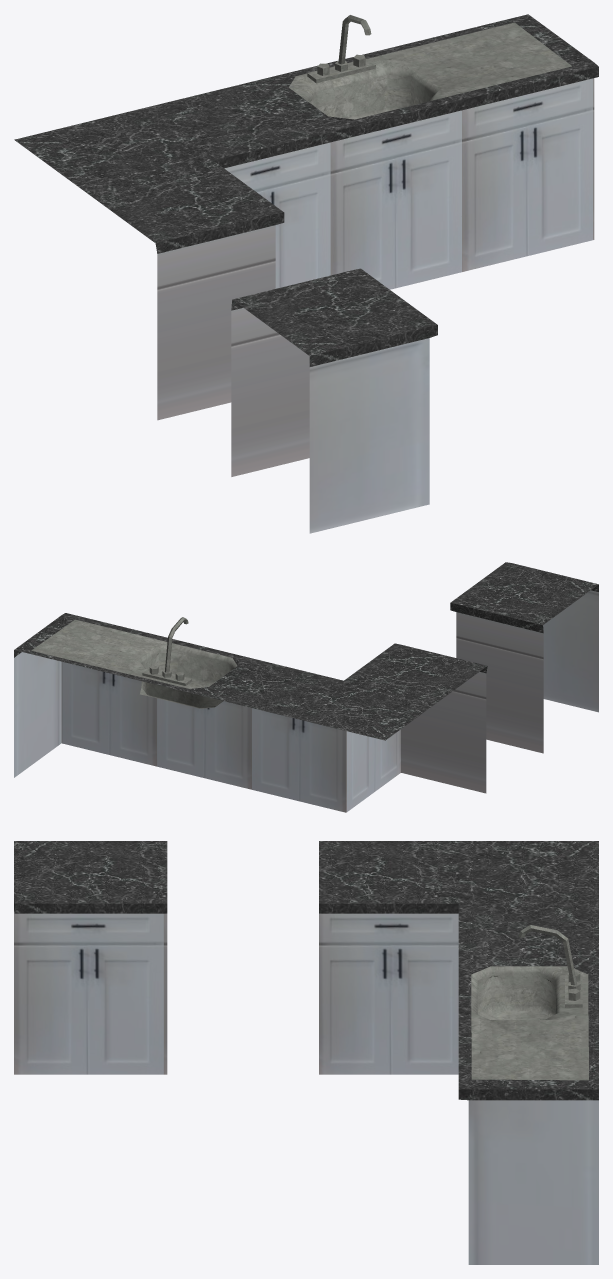
File: House_Demo_028-col.glb
The picture shows the model from 3 angles, top to bottom: view 1: azimuth 30°, elevation 25°; view 2: azimuth 150°, elevation 25°; view 3: azimuth 270°, elevation 25°; orthographic projection. The views are drawn at different scales.
Parts seen in each view (by area): view 1: House_Demo_028-col; view 2: House_Demo_028-col; view 3: House_Demo_028-col.
Part boxes in pixels (x1,y1,x2,y2): House_Demo_028-col: [14, 14, 598, 533]; House_Demo_028-col: [14, 562, 598, 812]; House_Demo_028-col: [14, 841, 598, 1264].
Bounding box in the file's own units: 6.48 × 2.96 × 6.44.
3 materials, 3 textured.
